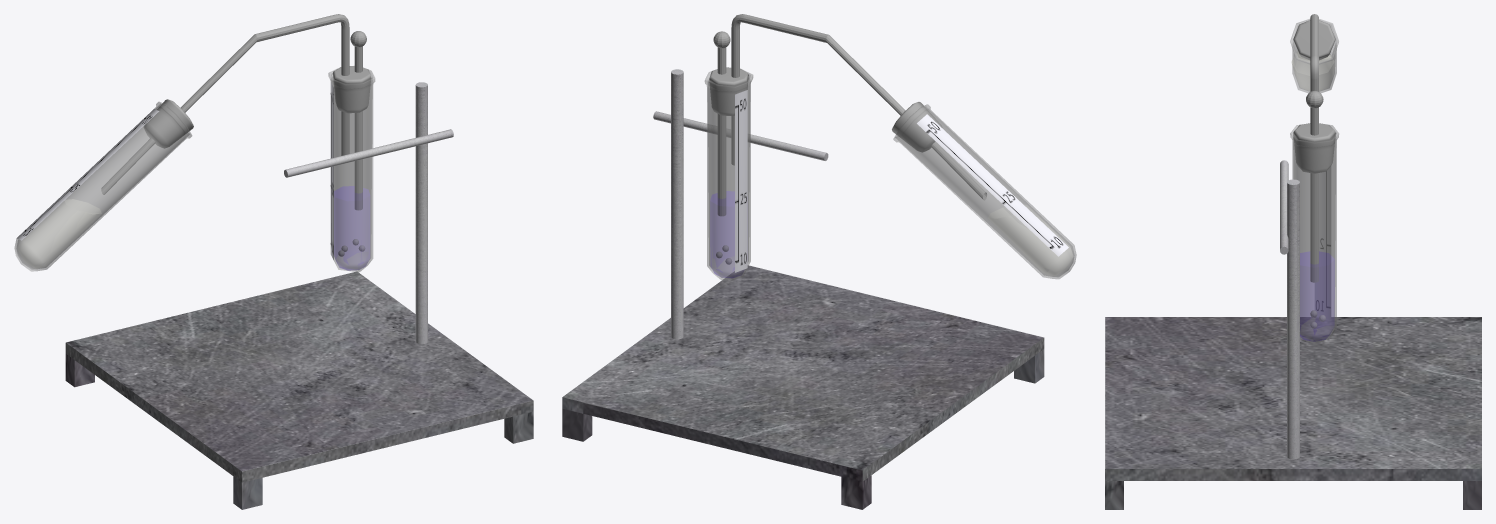
File: metal_carbonates_acids.fbx
The picture shows the model from 3 angles, left to right: view 1: azimuth 30°, elevation 25°; view 2: azimuth 150°, elevation 25°; view 3: azimuth 270°, elevation 25°; orthographic projection. The views are drawn at different scales.
Visible parts, largest first — view 1: pCube3, test_tube8, test_tube6, pCylinder12, pasted__pSphere21, pCylinder18, pCylinder14, pCylinder13, pCylinder17, pCylinder11, pSphere17; view 2: pCube3, test_tube8, test_tube6, pCylinder12, pasted__pSphere21, pCylinder18, pCylinder14, pSphere17, pCylinder11, pCylinder13, pCylinder17; view 3: pCube3, test_tube6, pCylinder12, pCylinder14, pCylinder11, test_tube8, pSphere17, pCylinder17, pCylinder18, pCylinder13, pasted__pSphere21.
Boxes of the visible parts, x1,y1,x2,y2 form: pCube3: (65,271,533,509); test_tube8: (14,101,192,271); test_tube6: (328,67,375,272); pCylinder12: (415,82,427,344); pasted__pSphere21: (101,14,349,194); pCylinder18: (18,199,101,268); pCylinder14: (334,186,369,270); pCylinder13: (284,129,453,177); pCylinder17: (143,99,193,148); pCylinder11: (332,66,371,113); pSphere17: (350,31,366,210); pCube3: (562,265,1044,509); test_tube8: (893,104,1076,279); test_tube6: (704,68,753,279); pCylinder12: (671,69,683,339); pasted__pSphere21: (731,14,986,200); pCylinder18: (988,208,1072,275); pCylinder14: (710,191,740,277); pSphere17: (713,31,730,215); pCylinder11: (709,67,748,116); pCylinder13: (653,111,828,160); pCylinder17: (892,102,942,152); pCube3: (1105,317,1481,509); test_tube6: (1290,124,1338,344); pCylinder12: (1287,179,1299,459); pCylinder14: (1300,252,1334,341); pCylinder11: (1293,123,1335,173); test_tube8: (1290,19,1338,92); pSphere17: (1306,90,1323,282); pCylinder17: (1293,20,1335,60); pCylinder18: (1291,52,1334,90); pCylinder13: (1280,160,1288,254); pasted__pSphere21: (1310,14,1318,91).
Size of the model in its own units: 60.7 by 51.8 by 44.01.
8 materials, 3 textured.
